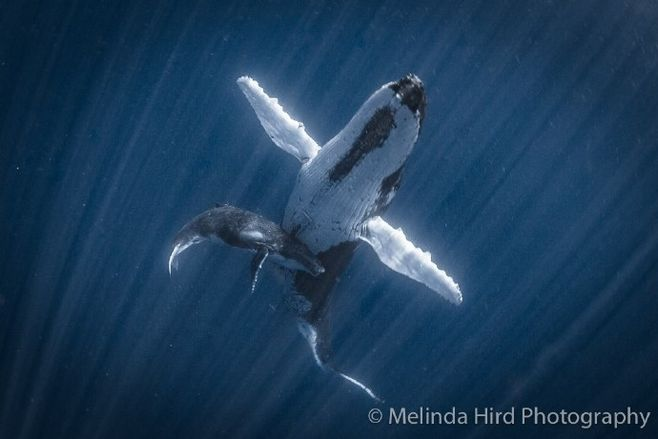fish: (241, 62, 467, 405), (158, 202, 326, 289)
